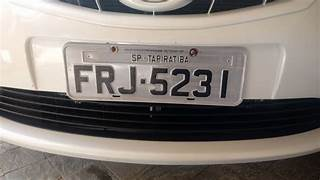number_plate: (65, 41, 242, 104)
